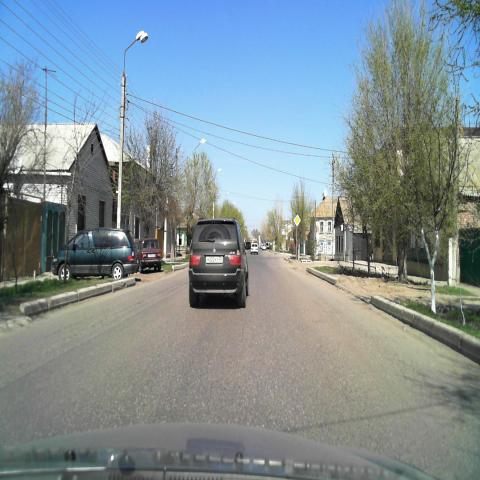2_1: (293, 214, 301, 227)
